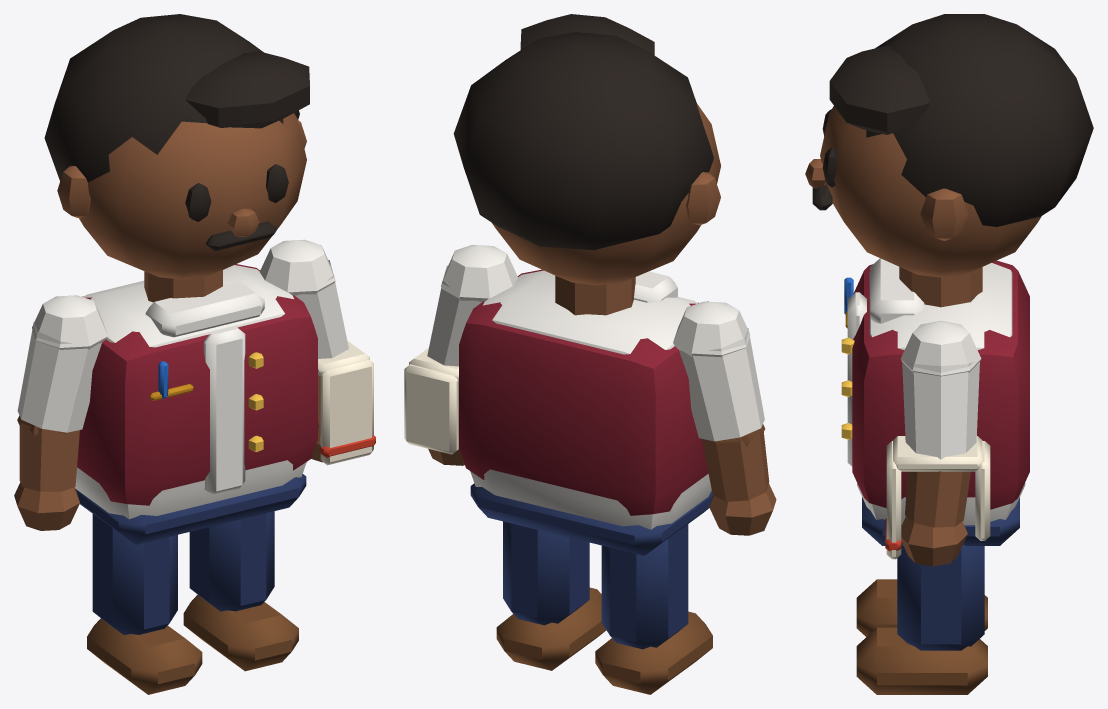
File: raju.glb
The picture shows the model from 3 angles, left to right: view 1: azimuth 30°, elevation 25°; view 2: azimuth 150°, elevation 25°; view 3: azimuth 270°, elevation 25°; orthographic projection. The views are drawn at different scales.
Visible parts, largest first — view 1: body, head, arm_r, leg_r, leg_l, arm_l; view 2: body, head, arm_r, leg_r, leg_l, arm_l; view 3: head, body, arm_l, leg_l, leg_r.
Part boxes in pixels (bbox=[...]): body: bbox=[74, 264, 317, 544]; head: bbox=[44, 14, 309, 279]; arm_r: bbox=[14, 295, 107, 530]; leg_r: bbox=[87, 513, 202, 694]; leg_l: bbox=[183, 511, 298, 671]; arm_l: bbox=[259, 239, 375, 465]; body: bbox=[459, 269, 712, 555]; head: bbox=[453, 14, 720, 285]; arm_r: bbox=[673, 301, 776, 535]; leg_r: bbox=[595, 524, 712, 694]; leg_l: bbox=[496, 521, 606, 670]; arm_l: bbox=[404, 245, 518, 465]; head: bbox=[805, 14, 1093, 277]; body: bbox=[841, 258, 1029, 545]; arm_l: bbox=[885, 321, 990, 566]; leg_l: bbox=[856, 544, 987, 694]; leg_r: bbox=[856, 579, 987, 636].
Bounding box in the file's own units: 0.61 × 1.06 × 0.4376.
Materials: 1 (1 with a texture image).
